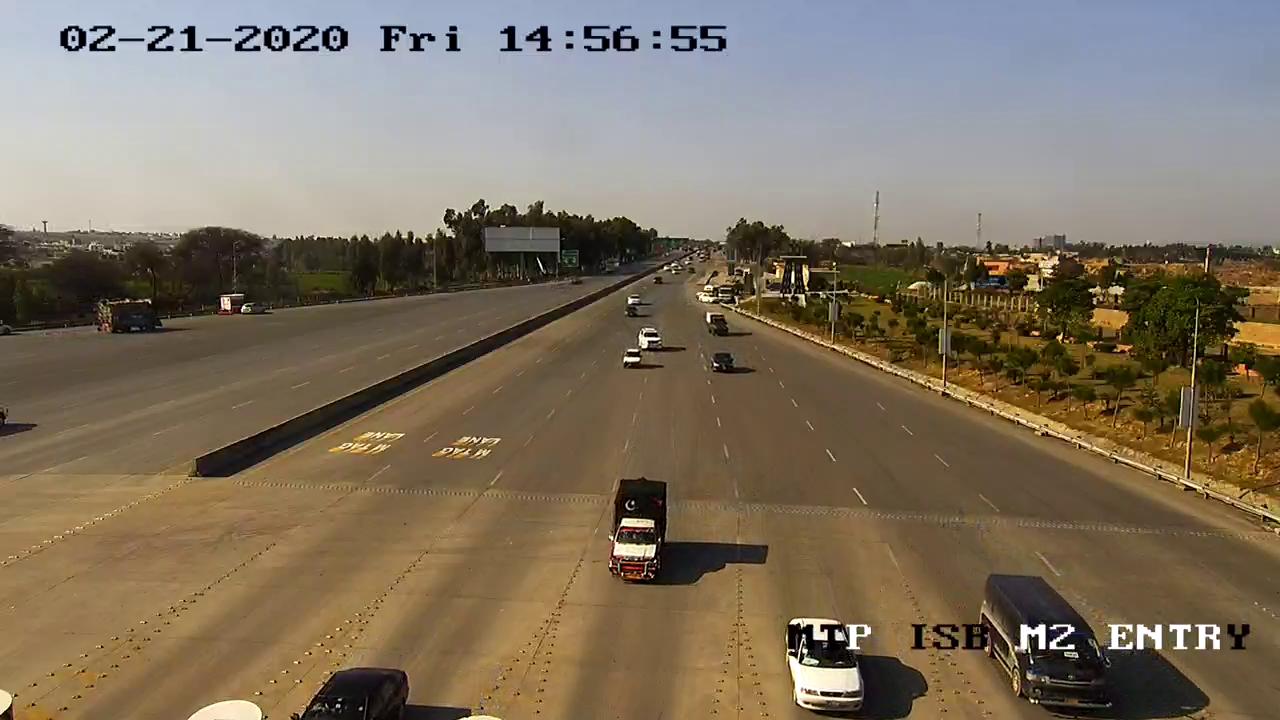f2: (601, 471, 678, 597)
